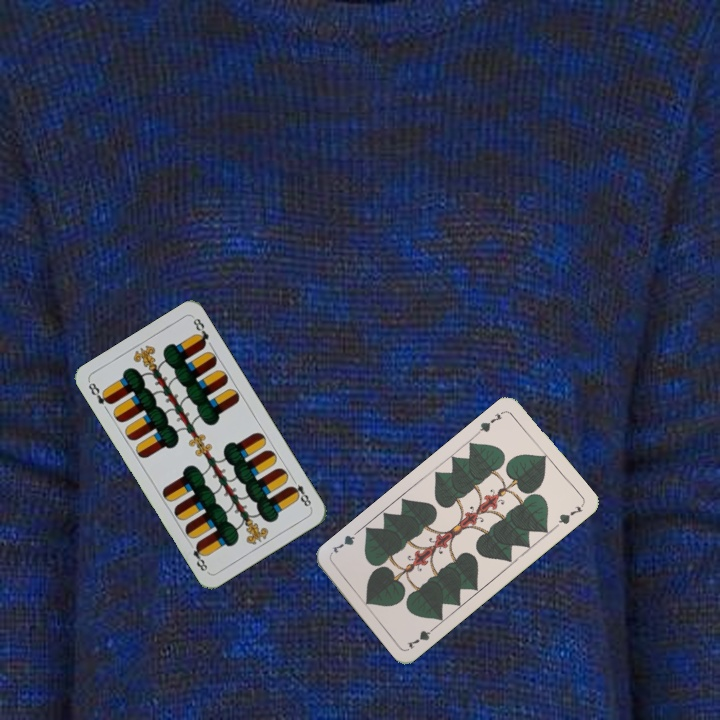E8: (286, 474, 314, 511), (84, 378, 114, 407)
G7: (403, 621, 439, 651), (473, 407, 507, 437)
